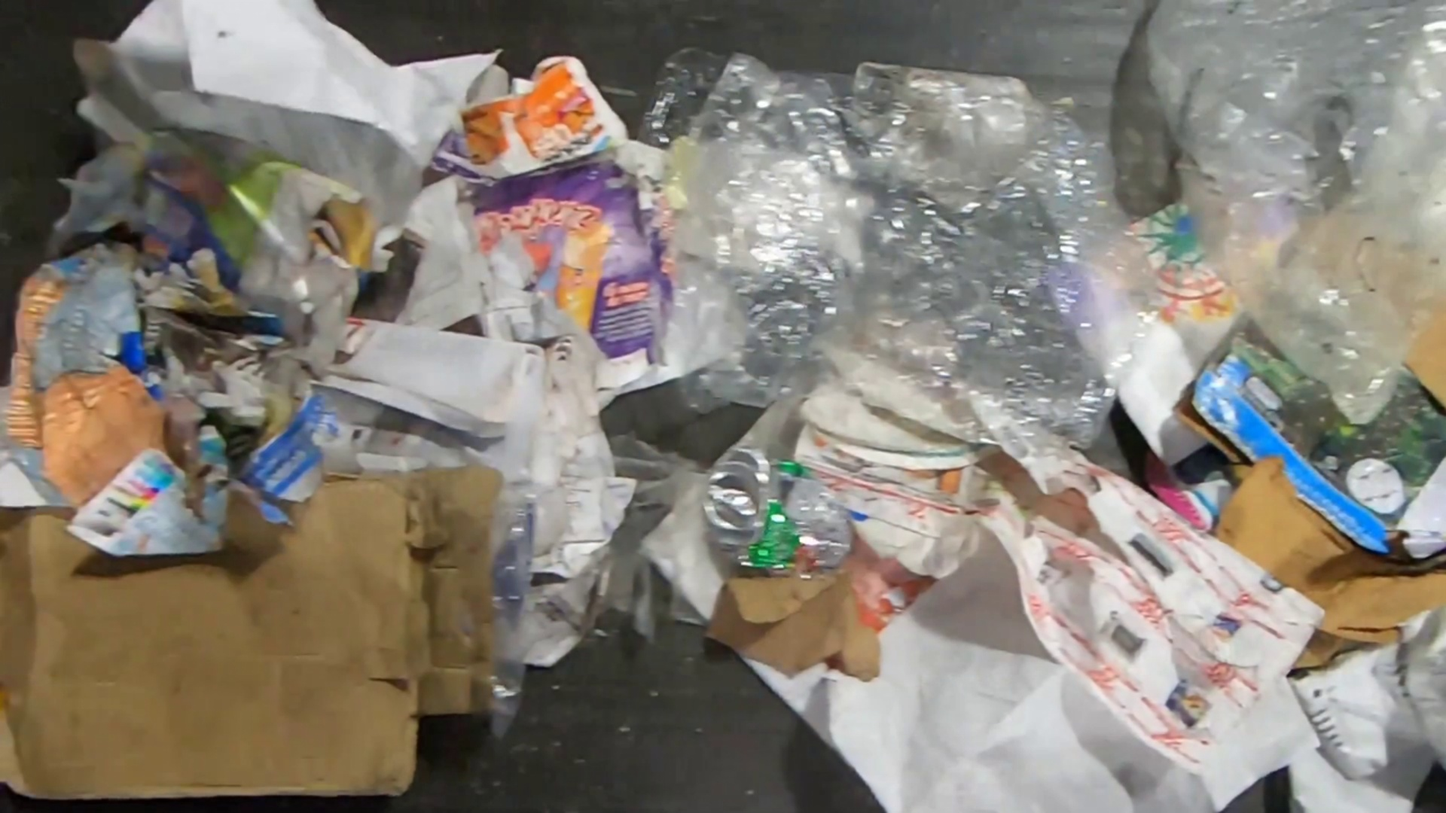cardboard: (0, 459, 504, 804), (424, 53, 666, 391), (1172, 316, 1446, 561), (0, 238, 200, 509), (1212, 453, 1446, 672), (700, 564, 885, 685), (1404, 304, 1446, 415)
metal: (702, 444, 856, 573)
plastic: (619, 43, 1170, 461), (1142, 0, 1446, 426), (547, 425, 721, 643), (487, 471, 574, 749)
